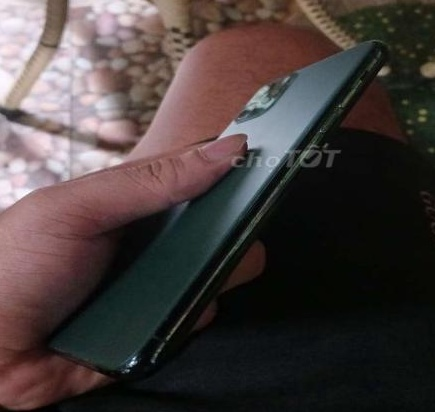scratch: (51, 344, 115, 371)
